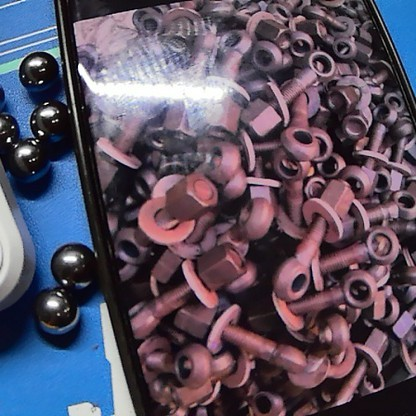ironball: (7, 45, 64, 93), (50, 244, 103, 288), (32, 289, 81, 330), (27, 102, 68, 143), (8, 143, 47, 181), (0, 115, 22, 149)
